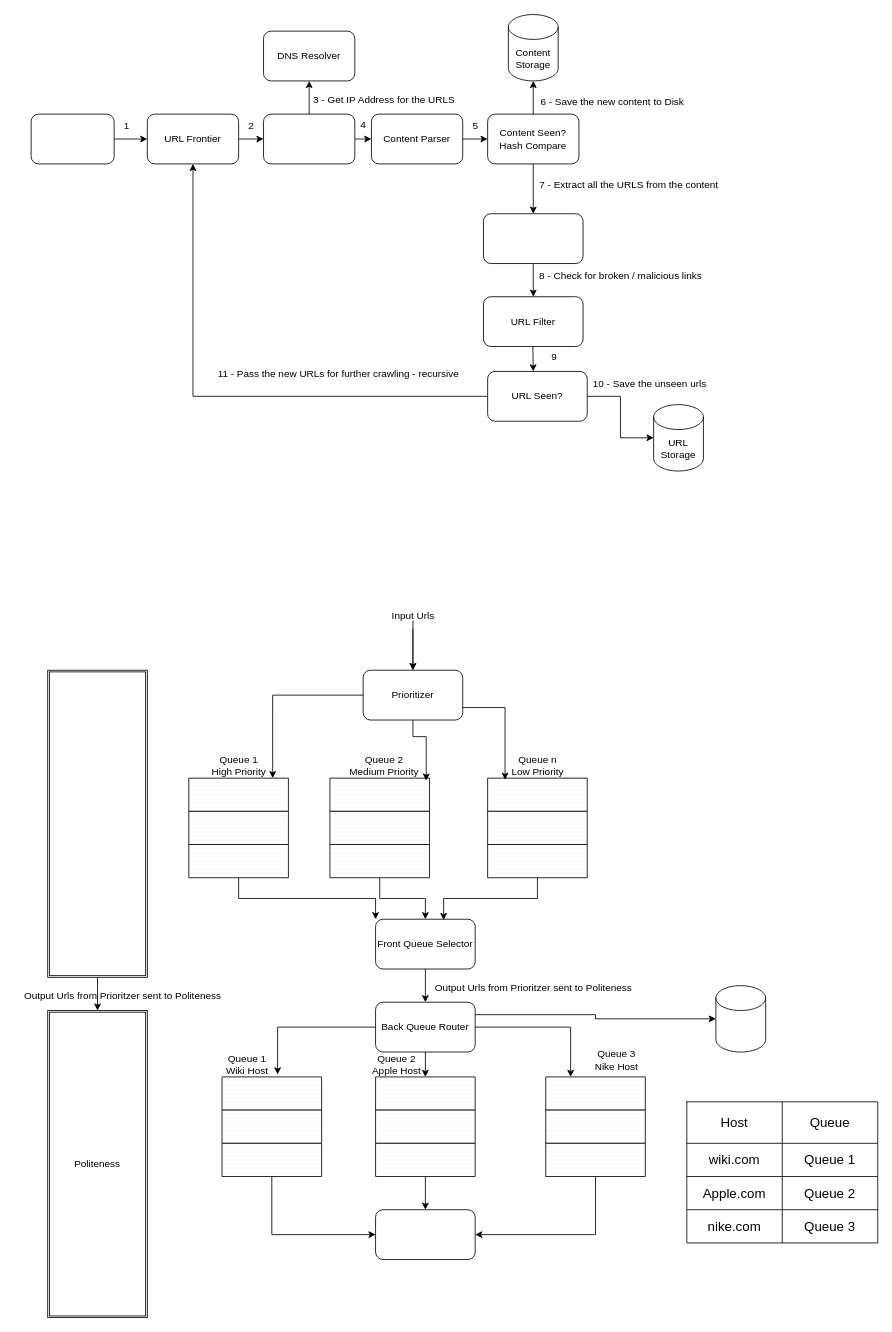
The diagram is 892 pixels wide and 1332 high, and some of its shapes have lost their labels. Here are the shapes that lost their labels. From the top down, the box of each, then its label:
(30, 113, 114, 164): Seed URLs
(263, 113, 355, 164): HTML Downloader
(483, 213, 583, 264): URL Extractor
(47, 669, 147, 977): Priority
(715, 985, 766, 1052): Mapping Table
(375, 1209, 475, 1260): Back Queue Selector
